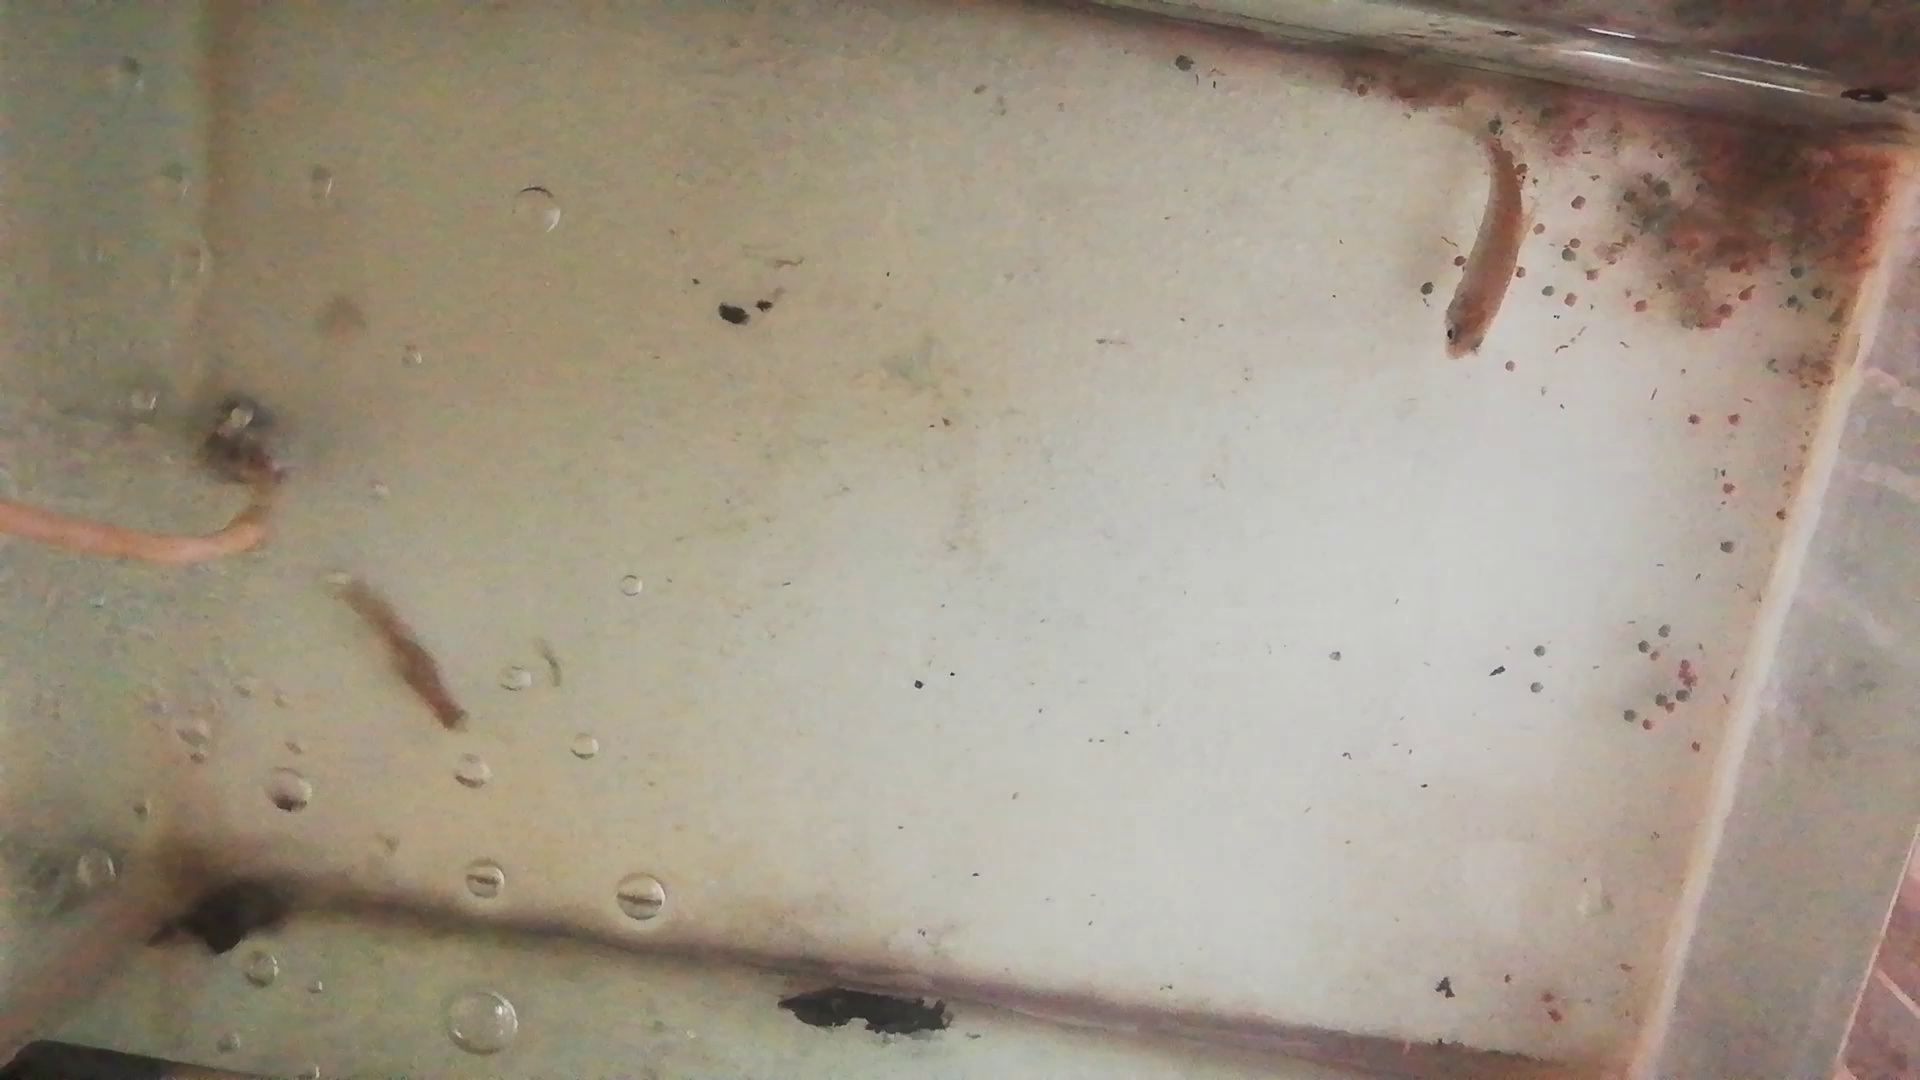fish: (330, 576, 469, 735), (1437, 144, 1527, 357)
